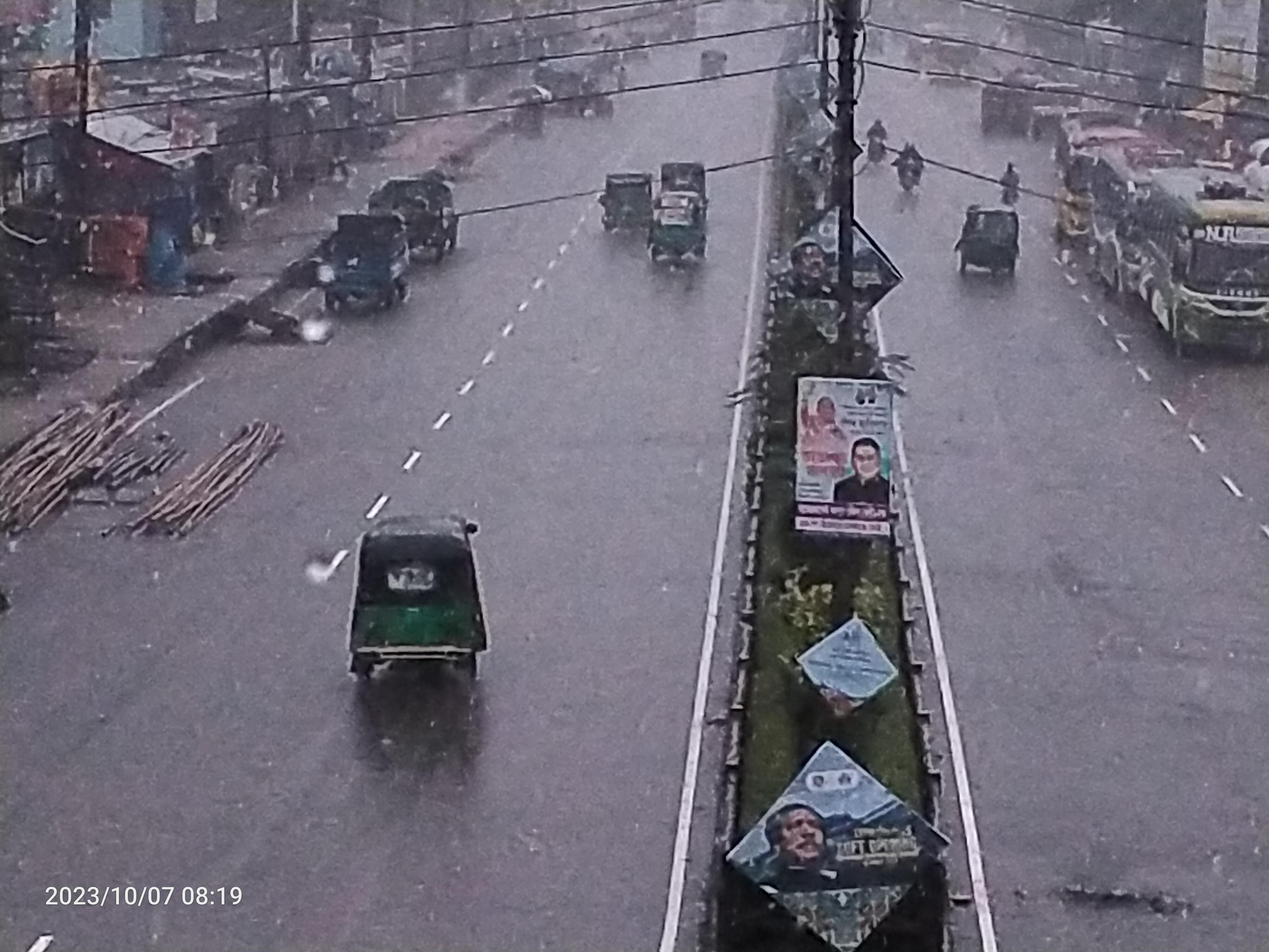Bike: (982, 148, 1039, 210), (852, 105, 904, 170), (885, 131, 929, 204)
Bus: (1104, 151, 1267, 368), (1044, 113, 1122, 263)
Truck: (353, 146, 485, 284), (290, 195, 423, 323)
